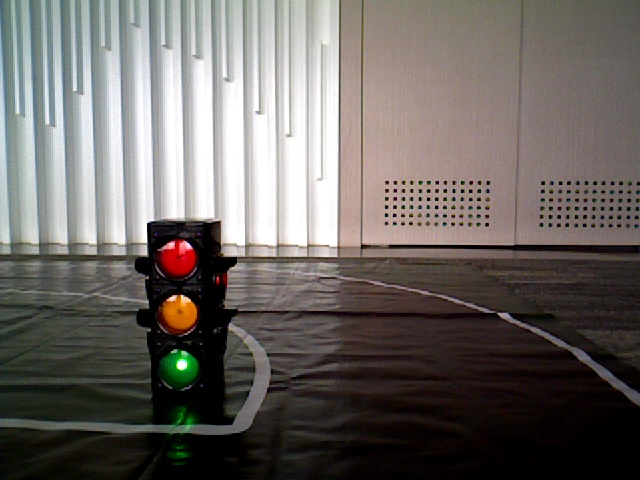green: (152, 227, 215, 392)
